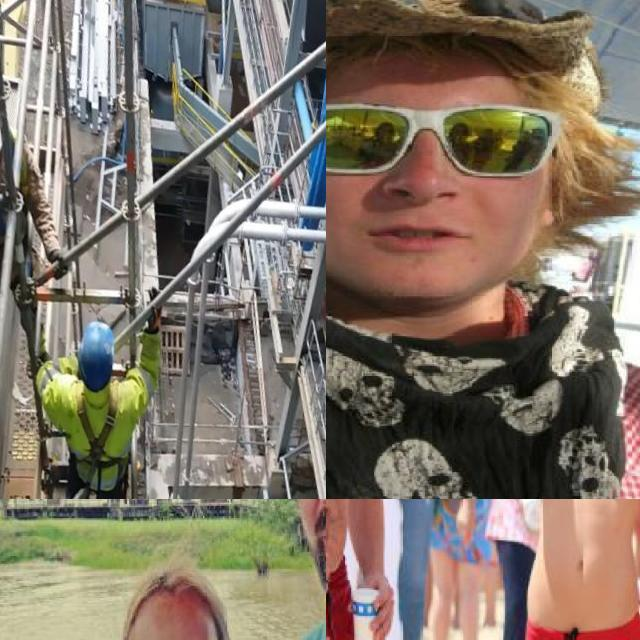Harness: (74, 395, 130, 492)
face_nomask: (326, 97, 552, 261)
glasses: (326, 89, 571, 172)
head_nohelmet: (326, 0, 603, 88), (117, 571, 228, 640)
person: (326, 0, 640, 499), (451, 499, 640, 640), (240, 499, 326, 640)
